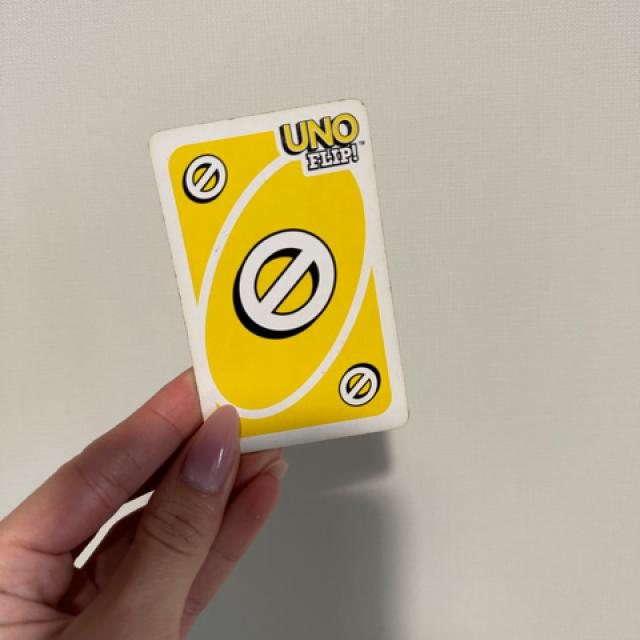lyellowskip-20: (168, 140, 247, 219)
